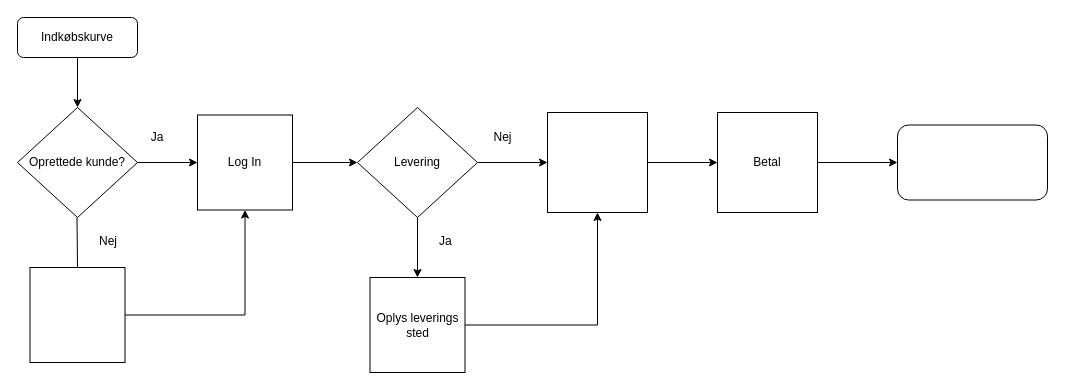
This 1065x390 diagram has some shape labels left out. Here are the shapes that lost their labels. From the top down, the box of each, then its label:
(546, 112, 648, 212): Valg af betalingsmåde
(896, 124, 1048, 200): ordrebekræftelse side
(29, 266, 125, 362): Opret Bruger
